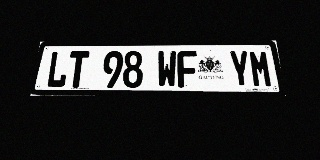8: (122, 51, 143, 88)
9: (102, 51, 124, 88)
F: (177, 51, 198, 88)
L: (45, 51, 70, 88)
M: (248, 50, 274, 87)
T: (66, 51, 90, 88)
W: (157, 51, 177, 88)
Y: (228, 50, 252, 87)
